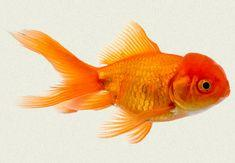goldfish: (43, 36, 233, 132)
